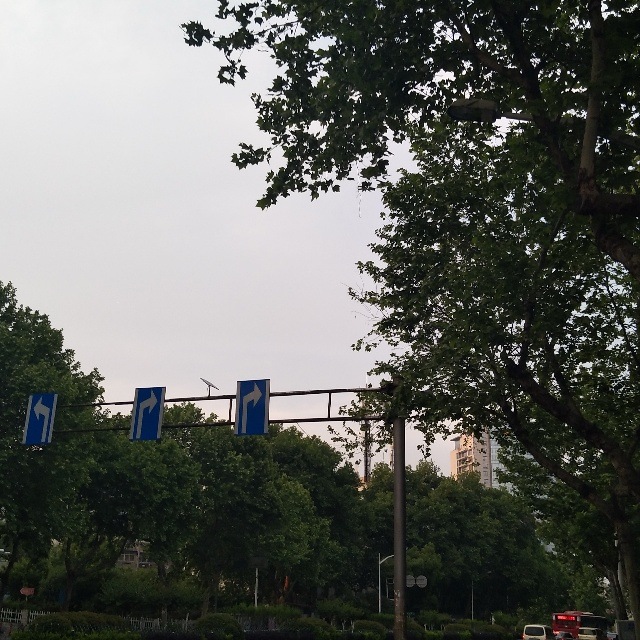left: (23, 394, 58, 443)
right: (130, 387, 165, 440), (236, 379, 268, 434)
